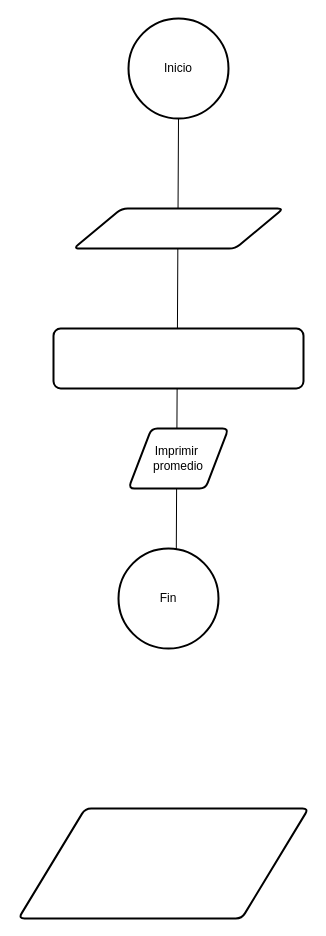
This 326x936 diagram has some shape labels left out. Here are the shapes that lost their labels. From the top down, the centre of each, then its label:
the point at 178,228: Leer examen_uno, examen_dos, examen_tres
the point at 178,358: promedio = (examen_uno + examen_dos +examen_tres) / 3
